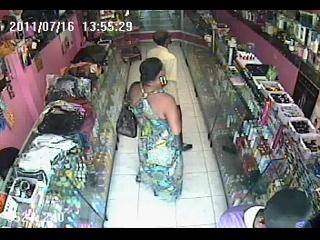Normal: (126, 57, 190, 168), (217, 188, 316, 228), (146, 30, 180, 108), (116, 109, 137, 138)
